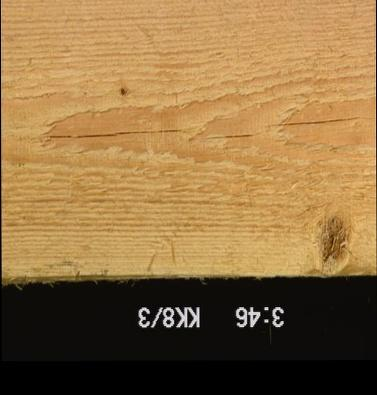small_knot: (116, 85, 129, 97)
sound_knot: (314, 209, 357, 275)
split: (47, 127, 184, 140), (268, 114, 363, 128), (203, 132, 266, 140)
wave: (0, 269, 375, 284)
